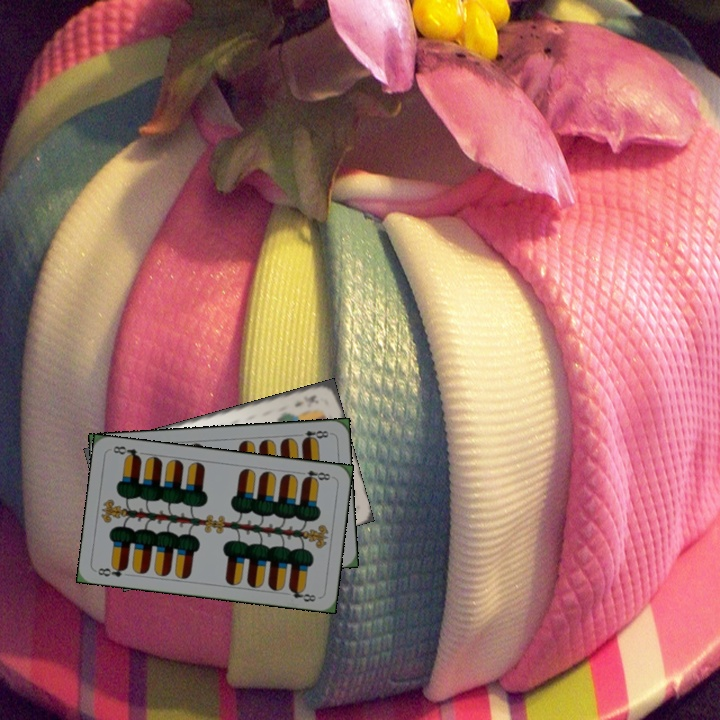E8: (295, 466, 333, 485), (293, 426, 333, 444), (93, 561, 129, 579)
EK: (290, 391, 319, 409)
